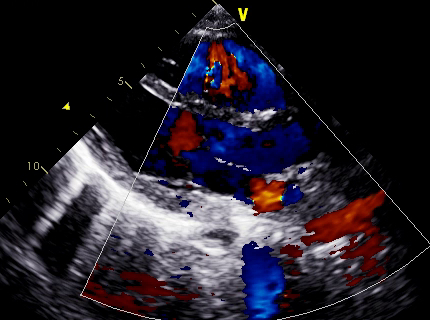AR: (174, 107, 222, 161)
